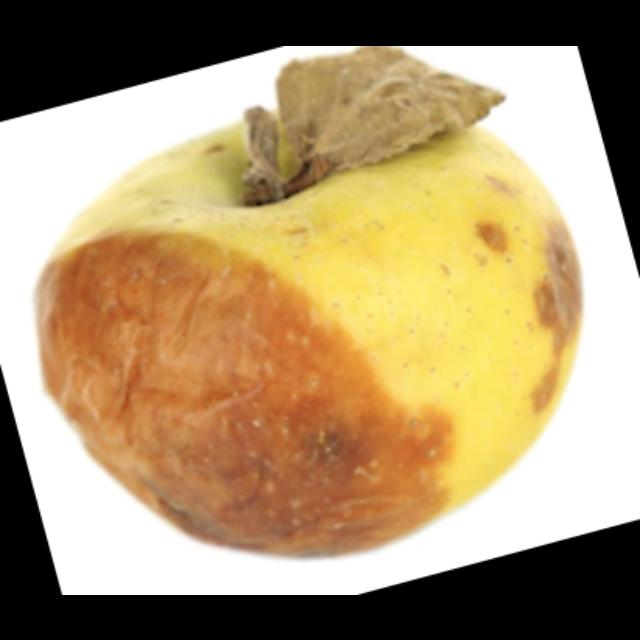Apel Tidak Segar: (39, 112, 582, 558)
